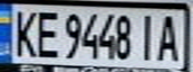4: (78, 9, 100, 60), (97, 10, 118, 60)
8: (112, 10, 136, 61)
9: (60, 9, 84, 60)
A: (154, 11, 184, 62)
E: (30, 7, 60, 60)
I: (136, 10, 160, 62)
K: (6, 6, 39, 58)
